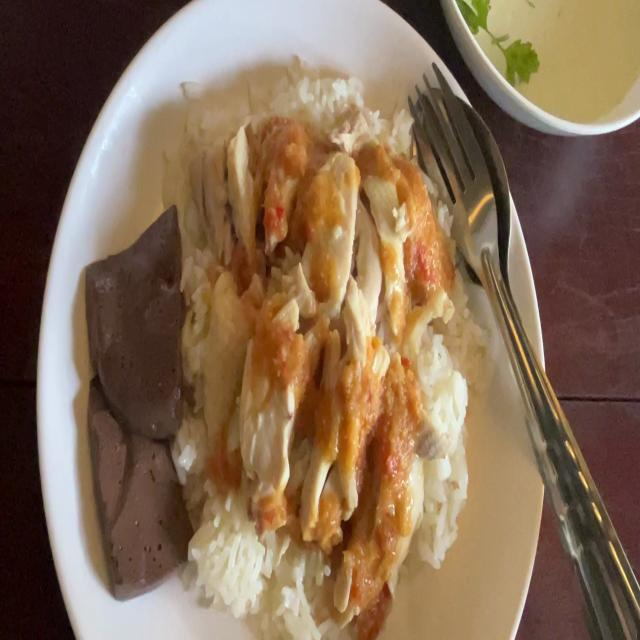chicken_rice: (198, 120, 430, 545)
noodle: (78, 203, 181, 430), (86, 376, 180, 578)
